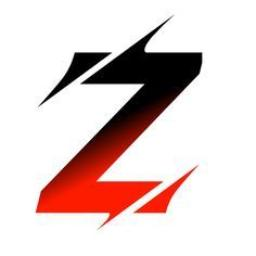z: (17, 33, 205, 225)
